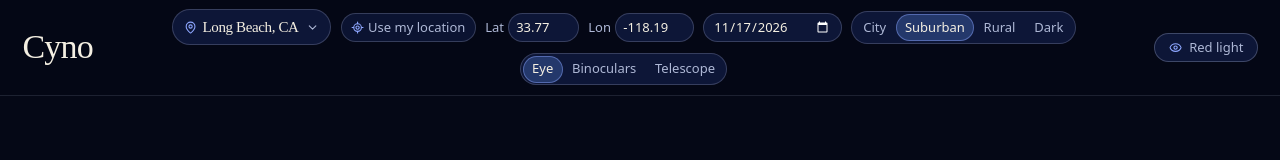
Test: ControlsBar › geolocation › explains error code 2 (POSITION_UNAVAILABLE) with its own message
Click the button "Use my location" at (408, 27), box [341,13,476,42]
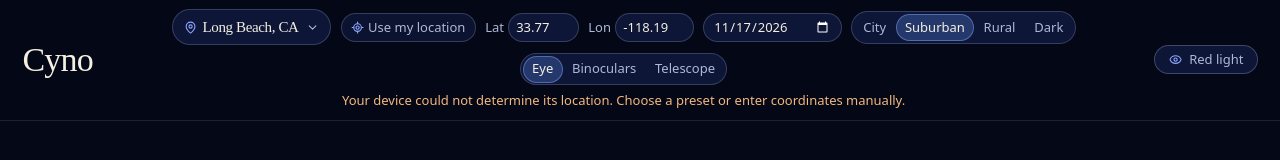
Expected: the message shows "Your device could not determine its location. Choose a preset or enter coordinates manually.", [342,91,905,109]
